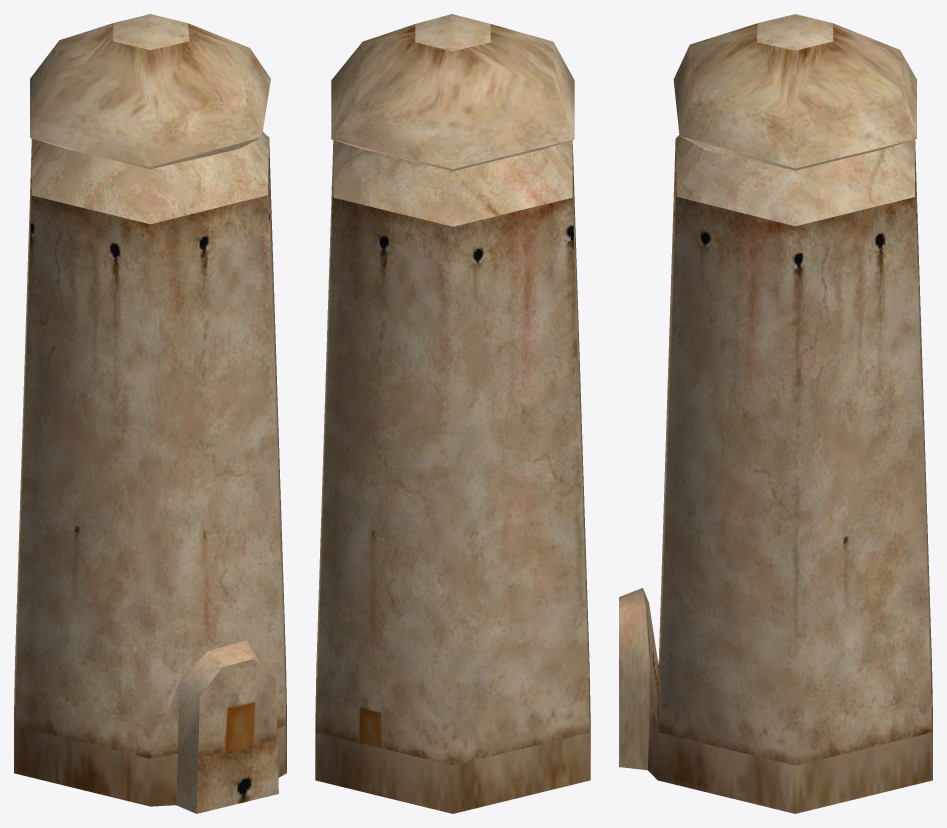
The model's file is thm_tato_imprv_building_s06_l3.fbx.
The picture shows the model from 3 angles, left to right: view 1: azimuth 30°, elevation 25°; view 2: azimuth 150°, elevation 25°; view 3: azimuth 270°, elevation 25°; orthographic projection.
Parts seen in each view (by area): view 1: mesh_node; view 2: mesh_node; view 3: mesh_node.
Boxes of the visible parts, x1,y1,x2,y2 form: mesh_node: (14,14,286,813); mesh_node: (315,14,590,813); mesh_node: (619,14,932,813).
Size of the model in its own units: 20.02 by 49.94 by 19.78.
1 material, 1 textured.
